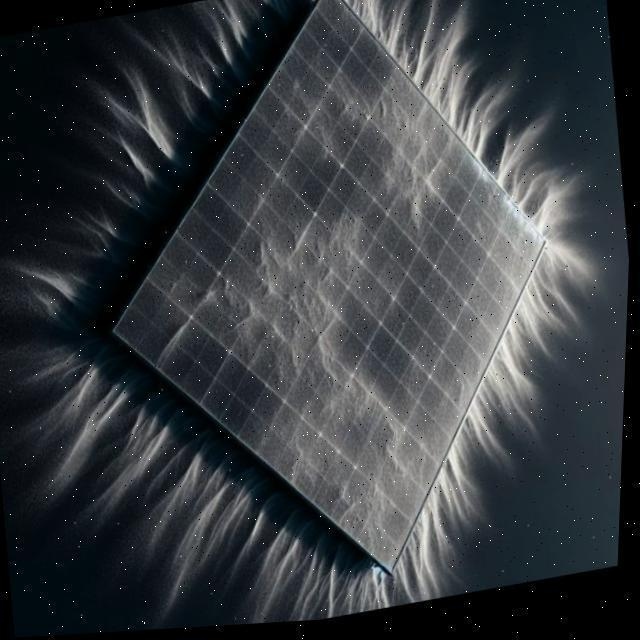Anomaly Solar Panel: (65, 0, 631, 575)
Surface Contaminant: (87, 101, 556, 573), (314, 29, 496, 250)
